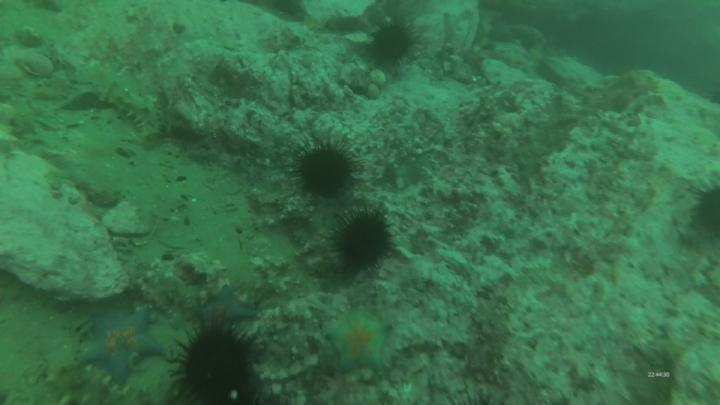echinus: (163, 319, 275, 405), (333, 203, 396, 276), (295, 140, 362, 204), (367, 19, 418, 72), (691, 176, 720, 248)
holothurian: (88, 72, 169, 144)
starfish: (77, 308, 165, 388), (323, 306, 395, 382), (184, 288, 261, 334)
